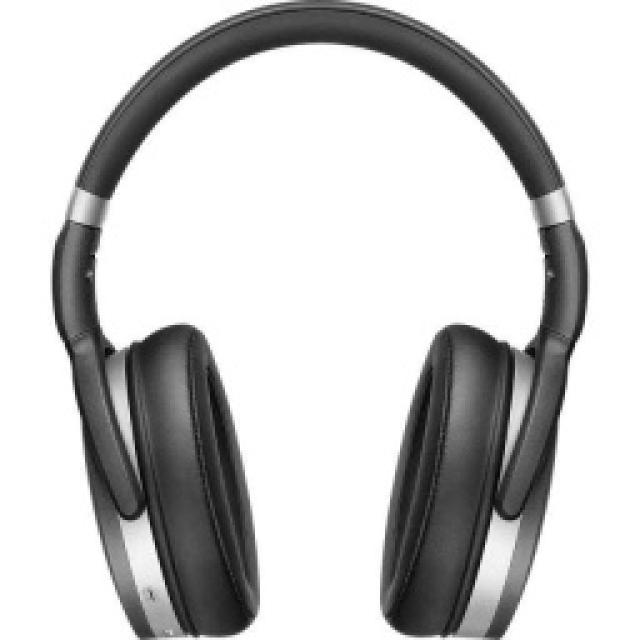headphones: (48, 0, 588, 638)
